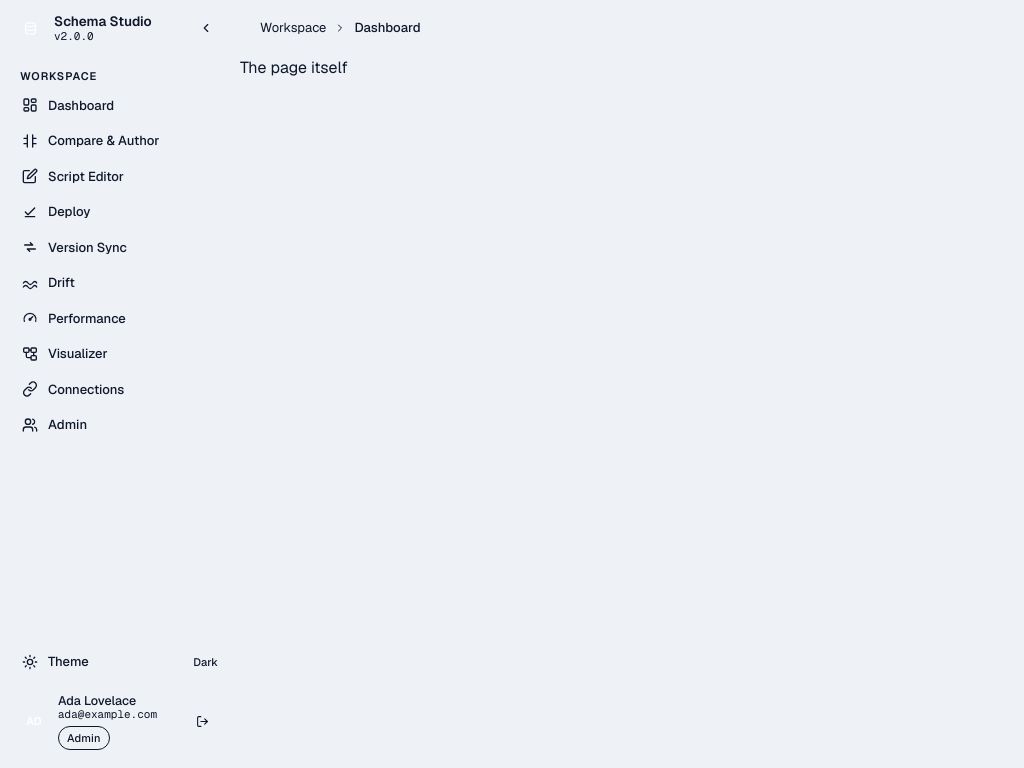
Test: the theme › flips the whole document, not just the rail
Click the button with aria-label "Switch to light theme" at x=120, y=662, box [12,645,228,679]
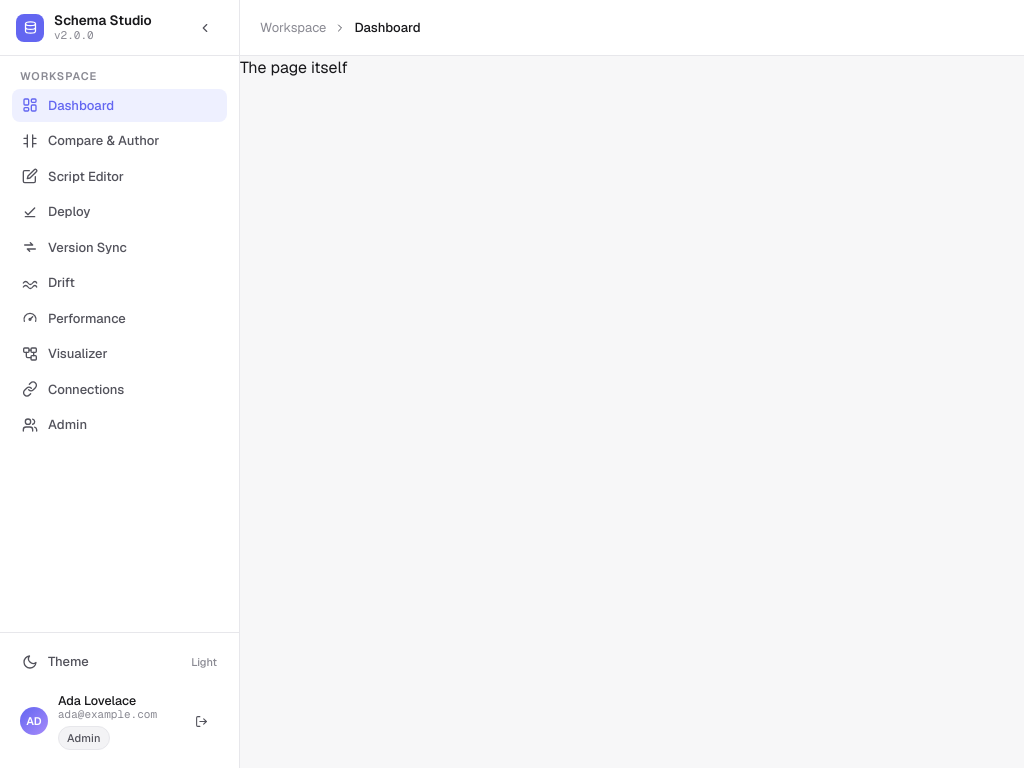
expect the button with aria-label "Switch to dark theme" is shown: met, box [12,645,227,679]
